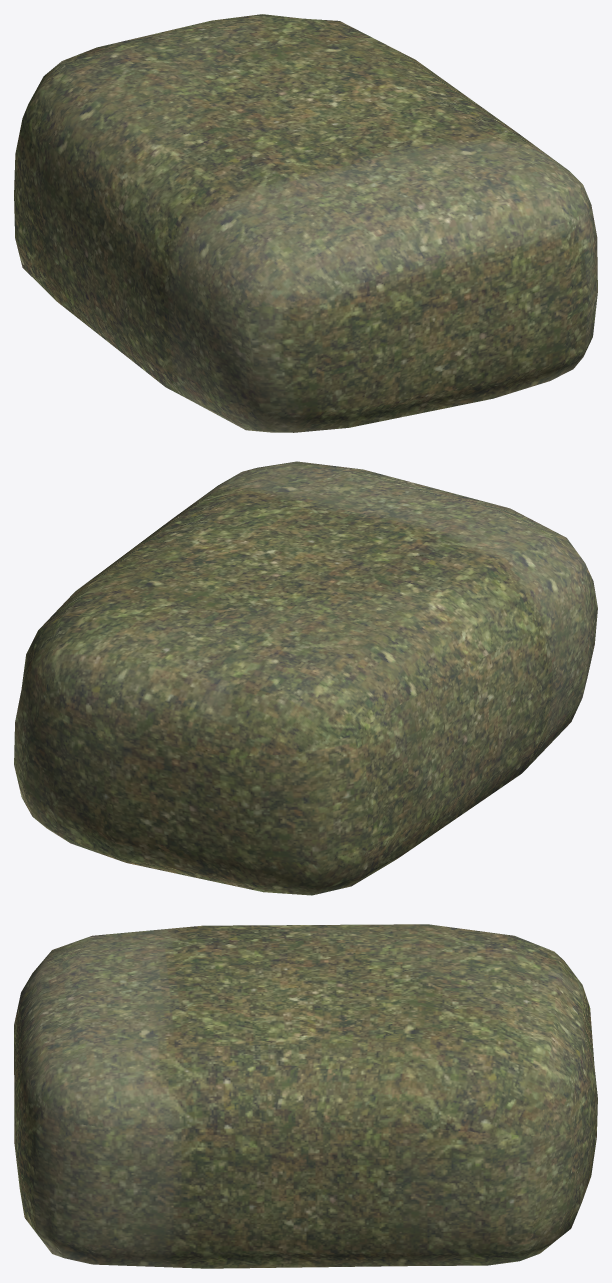
Rendered from Weed Brick.fbx.
3 renders of one model, top to bottom at view 1: azimuth 30°, elevation 25°; view 2: azimuth 150°, elevation 25°; view 3: azimuth 270°, elevation 25°, orthographic.
Visible parts, largest first — view 1: Weed Brick; view 2: Weed Brick; view 3: Weed Brick.
Boxes of the visible parts, left/top/right/bottom form: Weed Brick: left=14, top=14, right=597, bottom=432; Weed Brick: left=14, top=461, right=597, bottom=895; Weed Brick: left=14, top=924, right=597, bottom=1268.
Size of the model in its own units: 27.32 by 15.42 by 36.75.
Materials: 1 (1 with a texture image).
